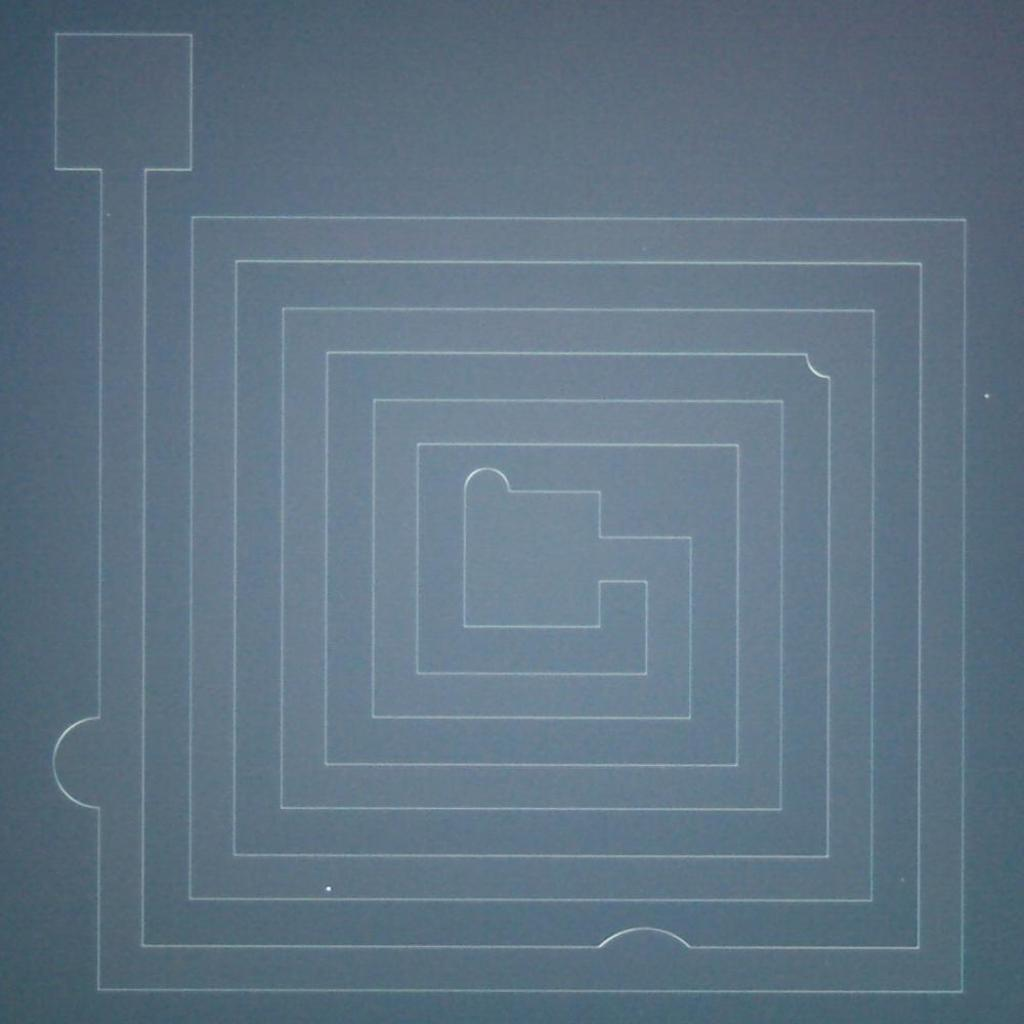dot: (326, 886, 330, 892), (984, 394, 989, 398)
